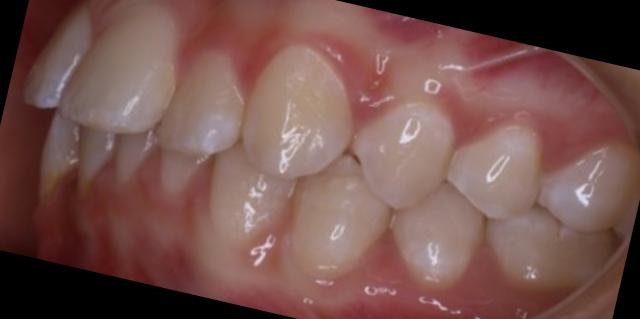canine class II 1/4: (183, 28, 430, 310)
molar class III 1/2: (471, 111, 640, 313)
